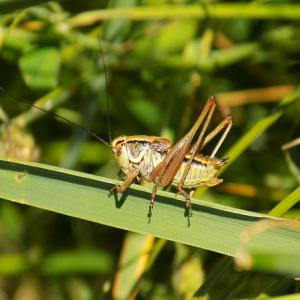locust: (86, 107, 247, 211)
